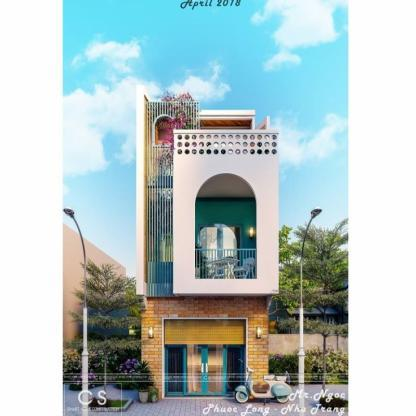Balcony: (174, 130, 279, 157), (195, 250, 257, 281)
Building Outline: (136, 85, 279, 398)
Door: (184, 322, 226, 395), (197, 225, 244, 280)
Facade: (136, 85, 279, 398)
Floor Slab: (148, 284, 270, 296), (146, 177, 277, 186)
Window: (195, 173, 258, 279), (227, 322, 242, 392), (168, 322, 183, 392), (154, 116, 174, 145), (162, 234, 175, 263)
